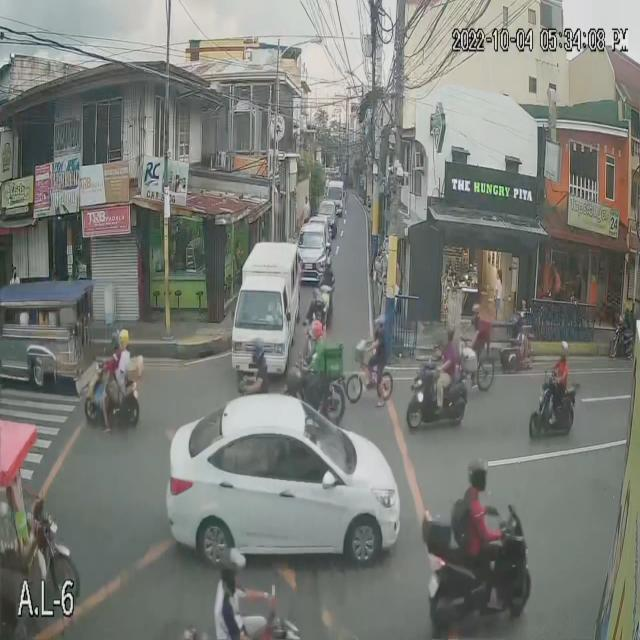Full-Faced: (216, 548, 246, 594), (468, 456, 490, 488), (310, 319, 325, 344), (249, 337, 264, 361), (116, 324, 129, 351), (109, 329, 123, 352), (442, 323, 456, 346), (557, 337, 570, 361), (469, 303, 482, 322)
